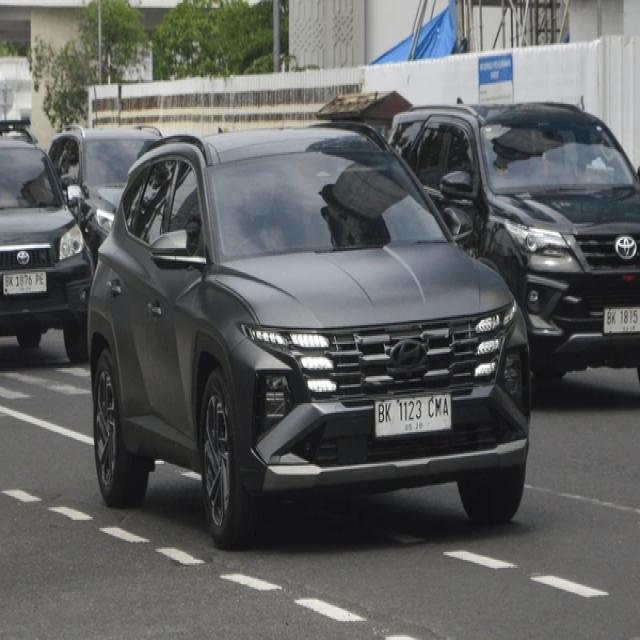hyundai: (389, 335, 426, 375)
toyota: (614, 234, 638, 261), (16, 248, 31, 268)
